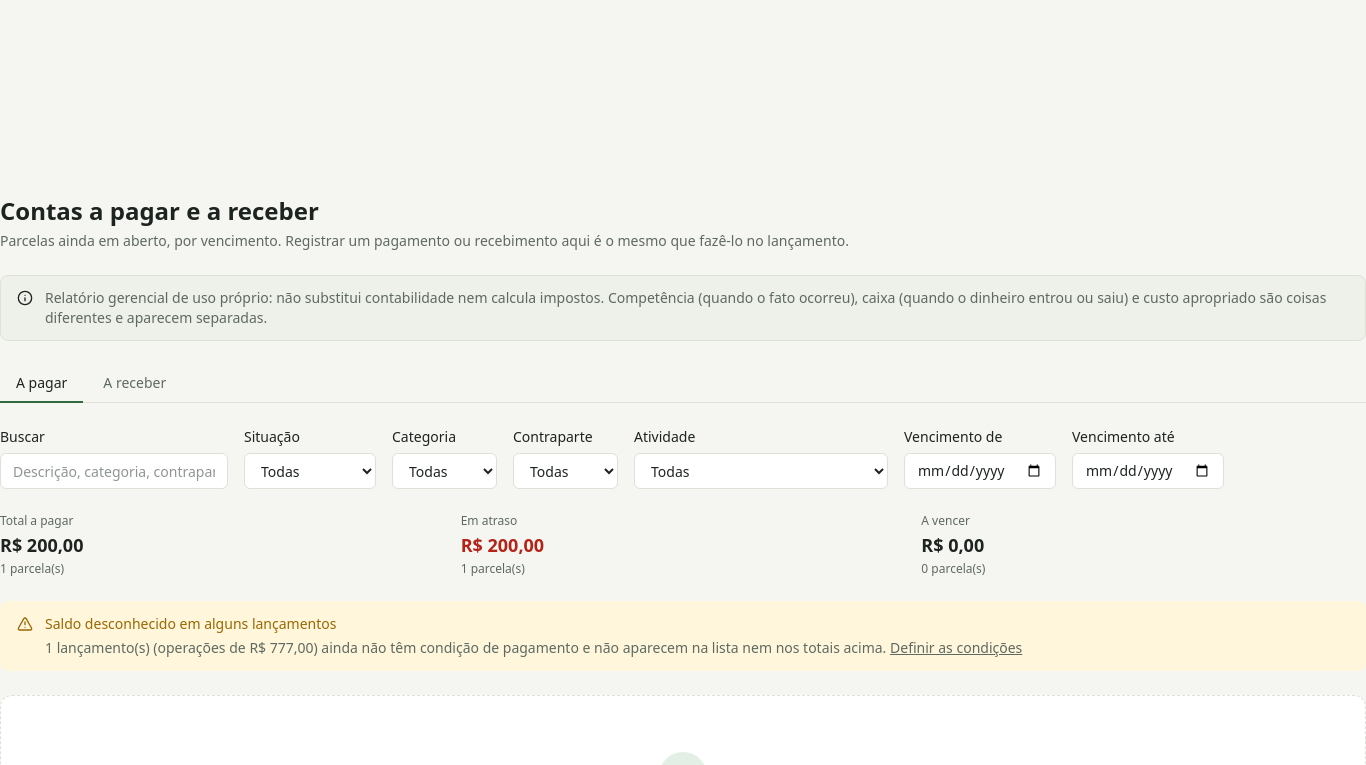
Test case: contas a pagar e a receber › a aba "A receber" pede a natureza receita
(page scrolled)
Expected: the element with test id "resumo-contas" is shown, [0, 512, 986, 577]
Click the tab "A receber". click: (135, 384)
box: [87, 365, 182, 403]
(page scrolled)
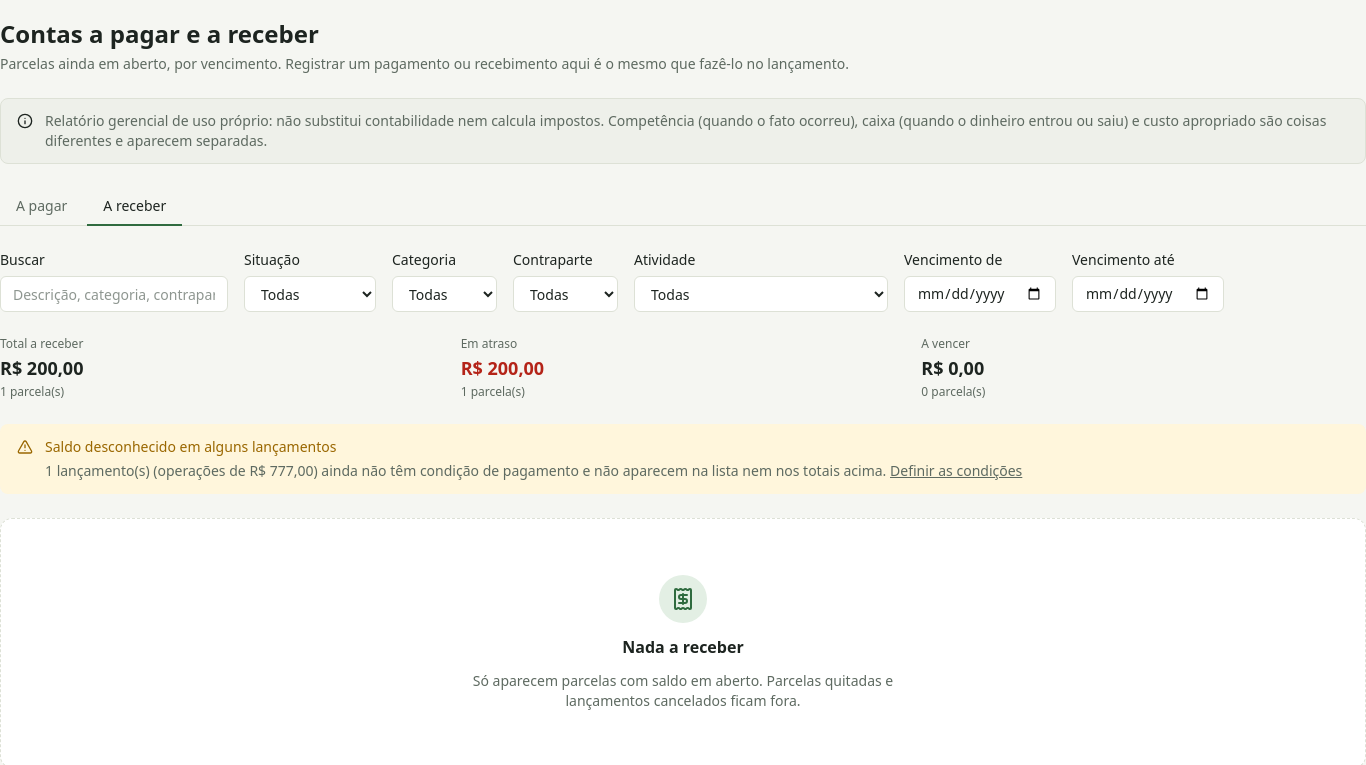
Result: the text "Nada a receber" is shown at [622, 635, 744, 659]
